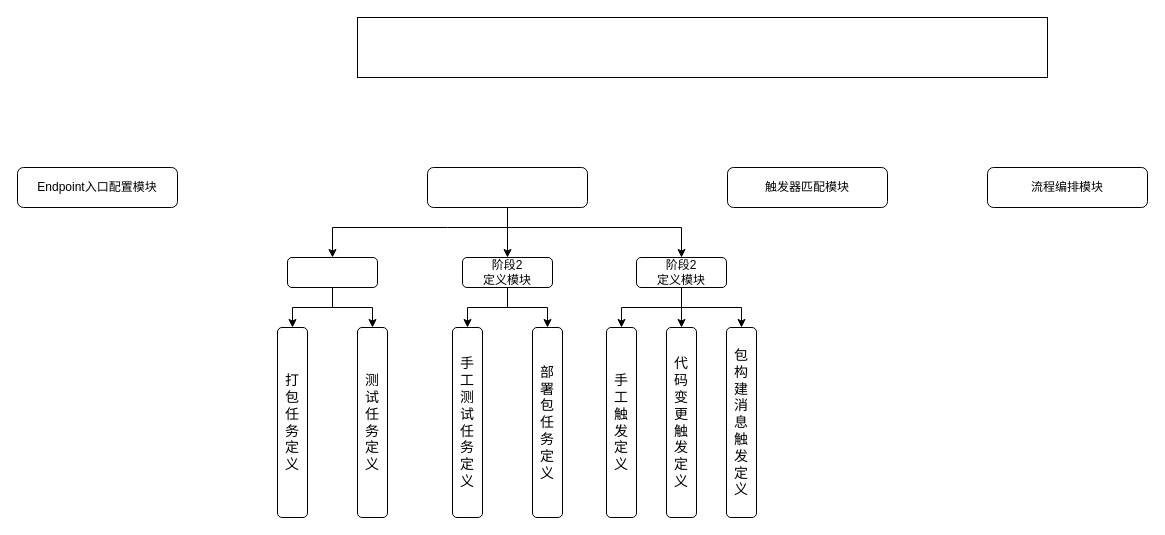
The diagram is 1165 pixels wide and 535 high, and some of its shapes have lost their labels. Each missing label, with the box of its shape:
pipelineConfig配置模块: (426, 166, 588, 208)
持续集成平台: (356, 16, 1048, 78)
阶段1 定义模块: (286, 256, 378, 288)
